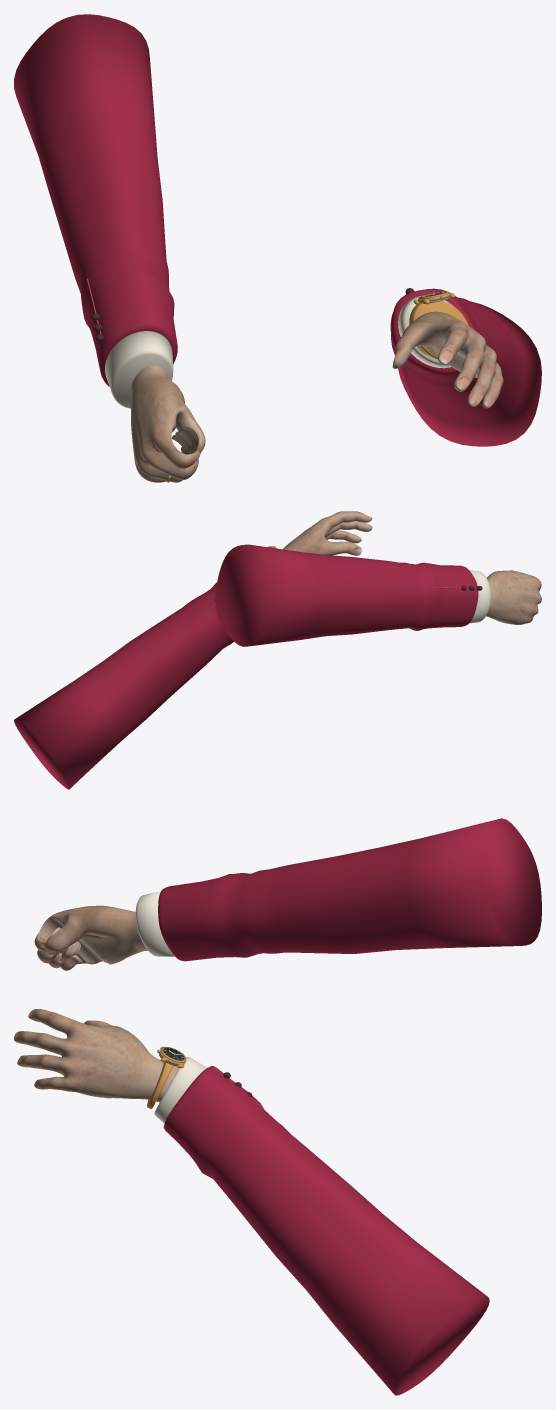
The model's file is fps_hands_net.glb.
3 views of the same model, one above another, from view 1: azimuth 30°, elevation 25°; view 2: azimuth 150°, elevation 25°; view 3: azimuth 270°, elevation 25° (orthographic). The views are drawn at different scales.
Parts seen in each view (by area): view 1: Right, Left; view 2: Right, Left; view 3: Left, Right.
Boxes of the visible parts, x1,y1,x2,y2 form: Right: (14,14,205,482); Left: (390,288,541,446); Right: (215,544,541,646); Left: (14,511,372,789); Left: (14,1009,489,1395); Right: (34,818,541,970).
Bounding box in the file's own units: 0.6549 × 0.5046 × 0.5752.
10 materials, 1 textured.
